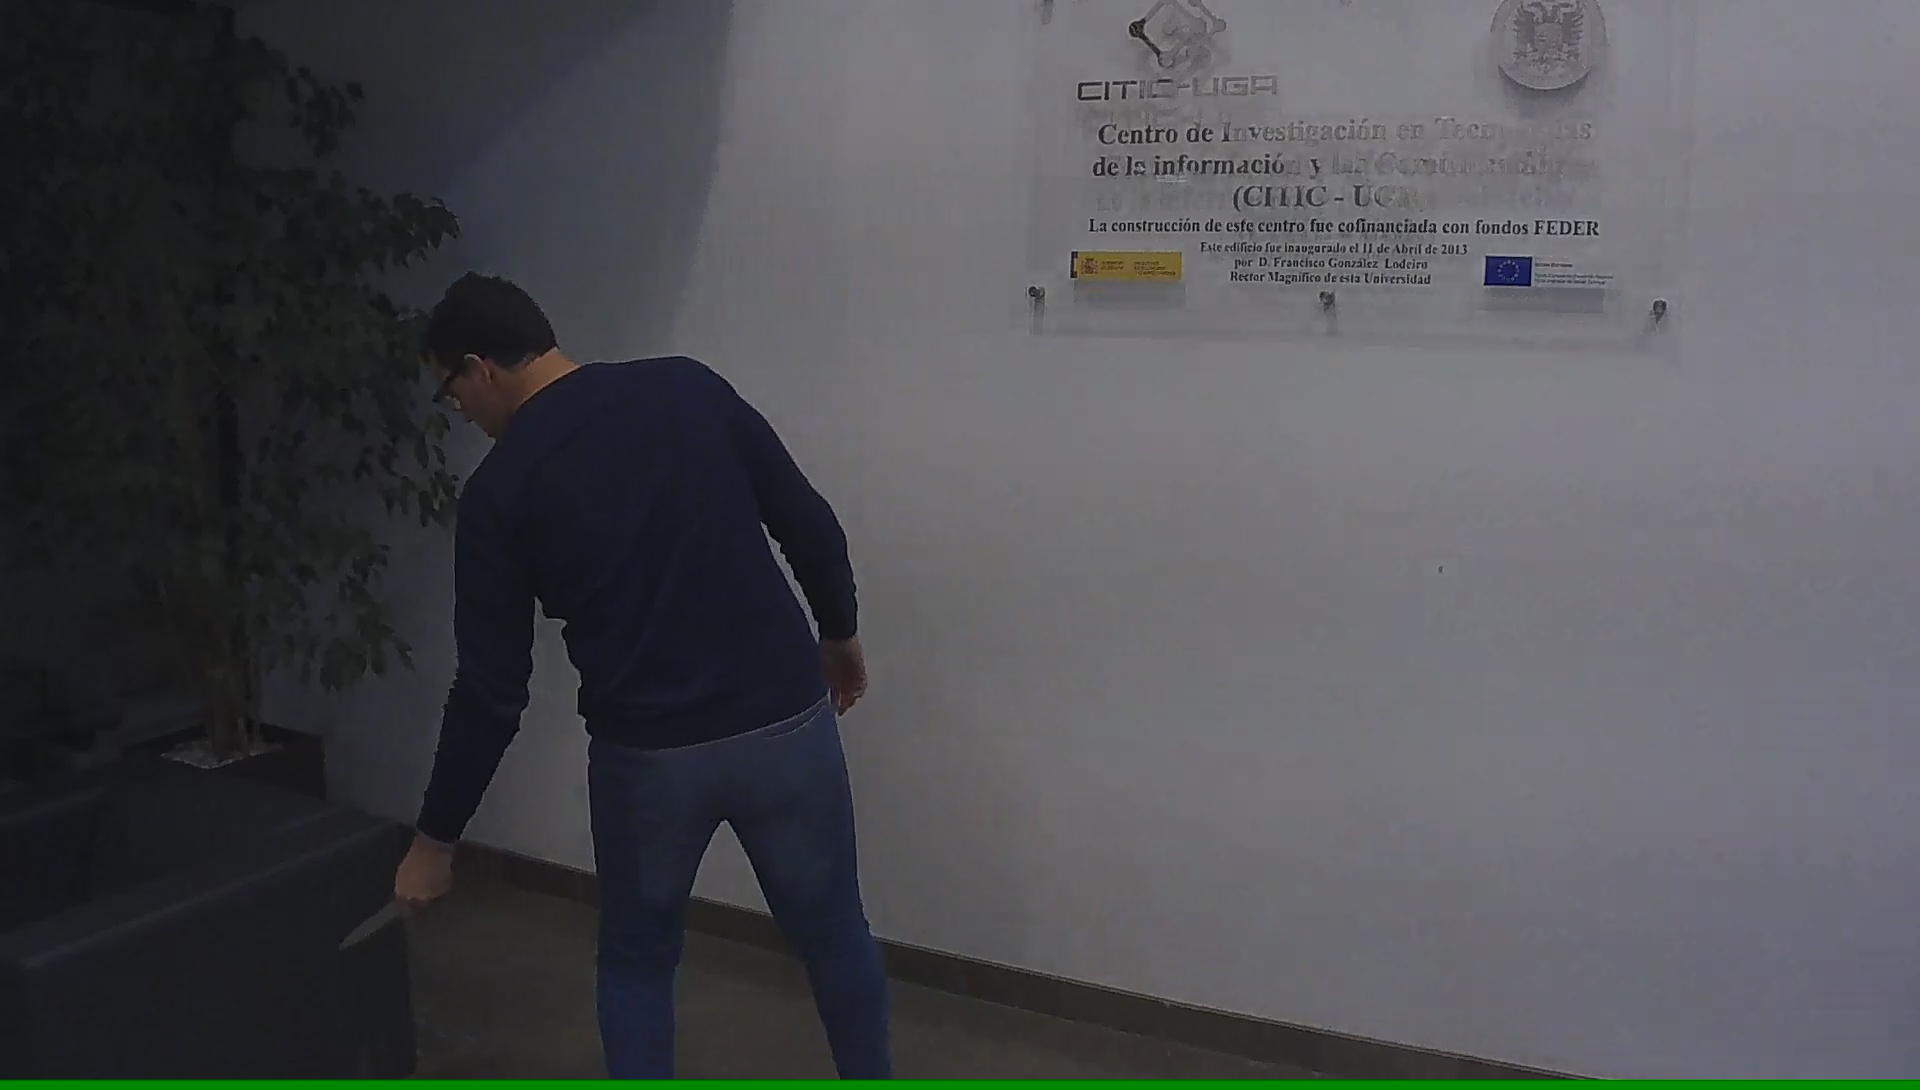knife: (328, 873, 446, 962)
